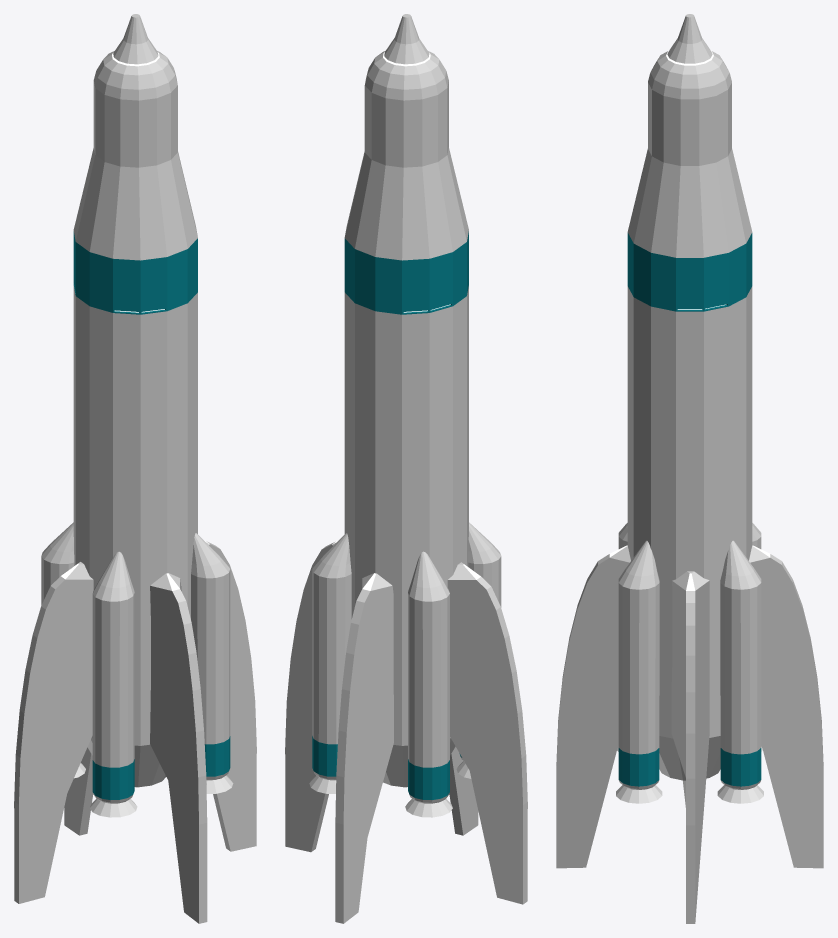
Rendered from ROCKET.fbx.
3 renders of one model, left to right at view 1: azimuth 30°, elevation 25°; view 2: azimuth 150°, elevation 25°; view 3: azimuth 270°, elevation 25°, orthographic.
Parts seen in each view (by area): view 1: Plane.003; view 2: Plane.003; view 3: Plane.003.
Boxes of the visible parts, <box> form: Plane.003: <box>14,14,256,923</box>; Plane.003: <box>285,14,527,923</box>; Plane.003: <box>556,14,823,923</box>.
Bounding box in the file's own units: 944 × 3254 × 927.
